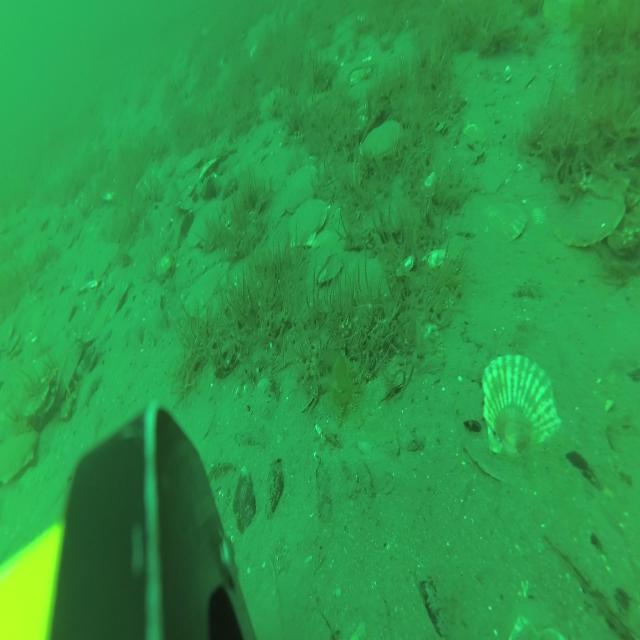scallop: (478, 347, 564, 468), (550, 153, 630, 251), (1, 372, 42, 487), (472, 192, 529, 249), (184, 258, 234, 318), (185, 194, 230, 252), (286, 200, 328, 252), (362, 116, 402, 164), (281, 164, 320, 213), (175, 145, 208, 179)
